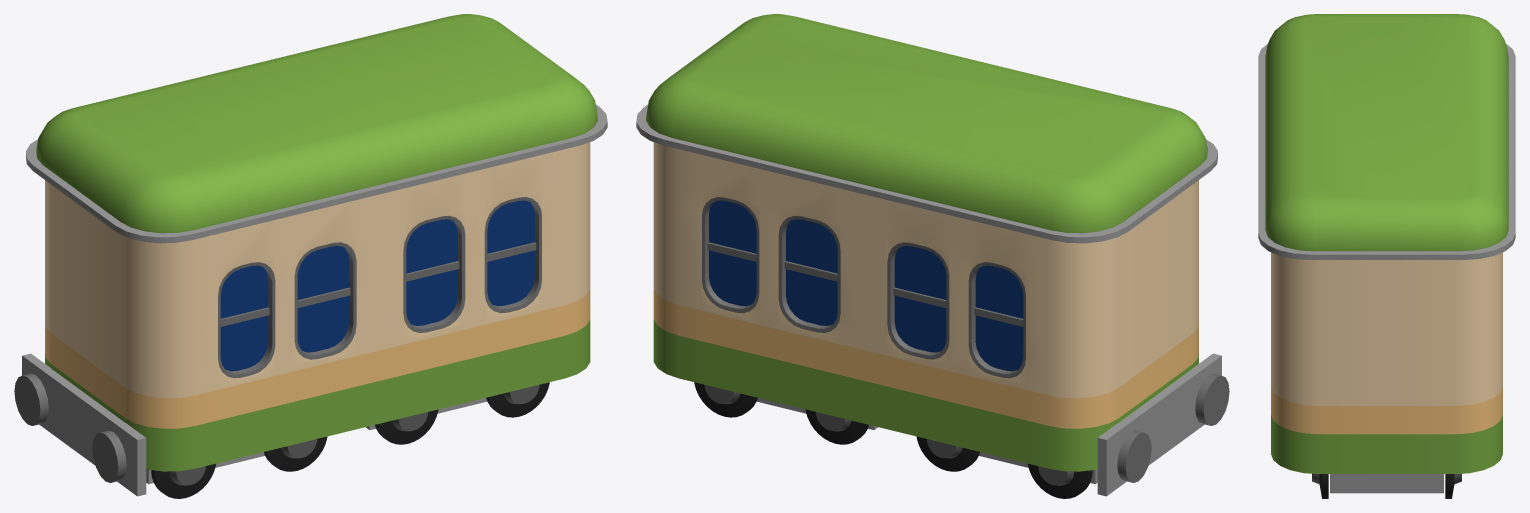
The model's file is railway_car.glb.
3 renders of one model, left to right at view 1: azimuth 30°, elevation 25°; view 2: azimuth 150°, elevation 25°; view 3: azimuth 270°, elevation 25°, orthographic. The views are drawn at different scales.
Visible parts, largest first — view 1: Cube.555; view 2: Cube.555; view 3: Cube.555.
Part boxes in pixels (box(x1,y1,x2,y2)): Cube.555: box(14, 14, 607, 498); Cube.555: box(636, 14, 1229, 498); Cube.555: box(1258, 14, 1515, 498).
Bounding box in the file's own units: 2.19 × 1.42 × 1.06.
1 material, 1 textured.
